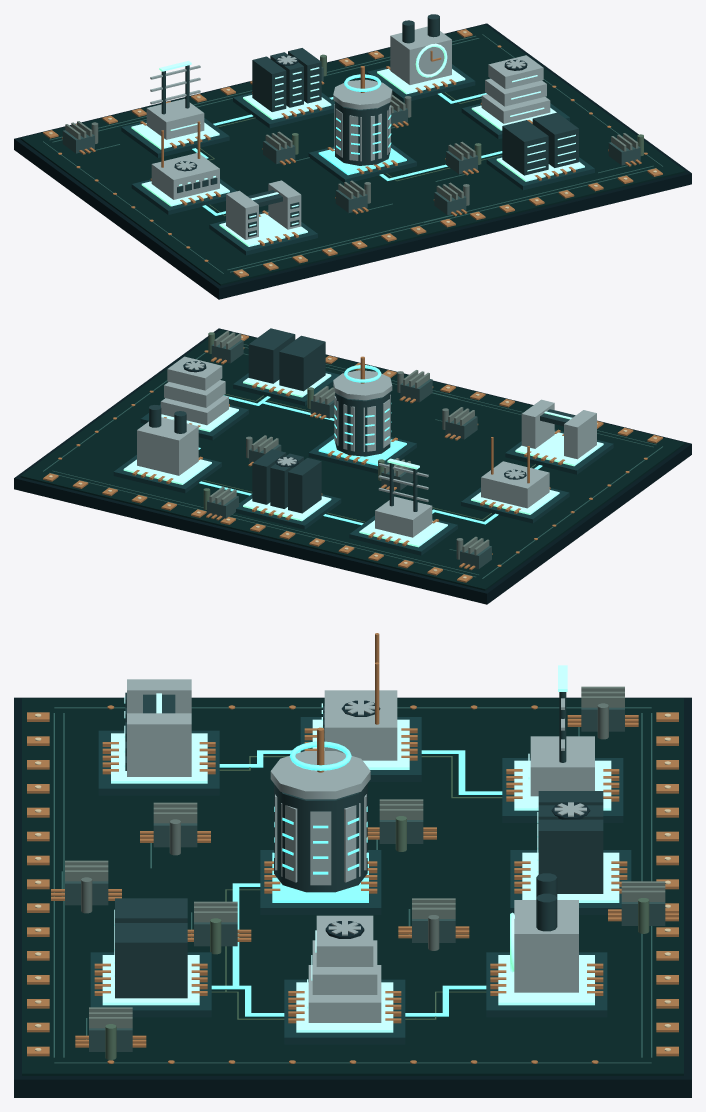
File: relay-city.glb
3 views of the same model, one above another, from view 1: azimuth 30°, elevation 25°; view 2: azimuth 150°, elevation 25°; view 3: azimuth 270°, elevation 25° (orthographic). The views are drawn at different scales.
Visible parts, largest first — view 1: TECHCARE_RELAY_02, relay-district-8-original, relay-district-7-section, relay-district-4-inventory, relay-district-5-timeline, relay-district-1-link, relay-district-3-anchor, relay-district-6-document, relay-district-2-path; view 2: TECHCARE_RELAY_02, relay-district-8-original, relay-district-4-inventory, relay-district-5-timeline, relay-district-7-section, relay-district-1-link, relay-district-3-anchor, relay-district-6-document, relay-district-2-path; view 3: TECHCARE_RELAY_02, relay-district-8-original, relay-district-5-timeline, relay-district-6-document, relay-district-7-section, relay-district-1-link, relay-district-4-inventory, relay-district-3-anchor, relay-district-2-path.
Boxes of the visible parts, x1,y1,x2,y2 form: TECHCARE_RELAY_02: (14, 23, 691, 299); relay-district-8-original: (308, 66, 416, 182); relay-district-7-section: (486, 112, 594, 190); relay-district-4-inventory: (233, 48, 334, 128); relay-district-5-timeline: (367, 14, 475, 102); relay-district-1-link: (209, 180, 317, 255); relay-district-3-anchor: (121, 60, 229, 157); relay-district-6-document: (461, 55, 569, 138); relay-district-2-path: (131, 121, 236, 214); TECHCARE_RELAY_02: (14, 328, 691, 604); relay-district-8-original: (308, 356, 416, 473); relay-district-4-inventory: (235, 449, 341, 529); relay-district-5-timeline: (113, 405, 221, 493); relay-district-7-section: (233, 328, 340, 405); relay-district-1-link: (505, 399, 613, 474); relay-district-3-anchor: (349, 458, 457, 555); relay-district-6-document: (140, 356, 248, 440); relay-district-2-path: (461, 437, 569, 523); TECHCARE_RELAY_02: (14, 686, 691, 1097); relay-district-8-original: (260, 727, 381, 914); relay-district-5-timeline: (486, 873, 607, 1017); relay-district-6-document: (284, 915, 405, 1044); relay-district-7-section: (90, 898, 211, 1017); relay-district-1-link: (98, 679, 219, 795); relay-district-4-inventory: (510, 791, 631, 914); relay-district-3-anchor: (502, 665, 623, 822); relay-district-2-path: (300, 633, 421, 781).
Size of the model in its own units: 112 by 24.3 by 84.
